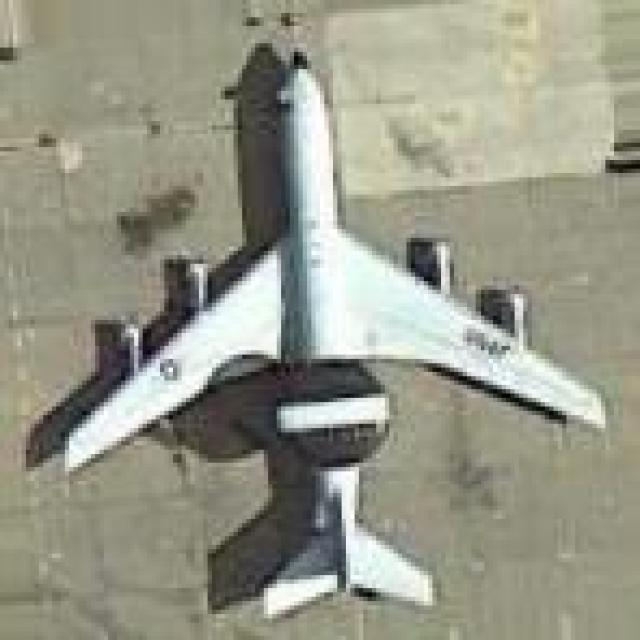E-3_TopDown: (22, 39, 606, 618)
